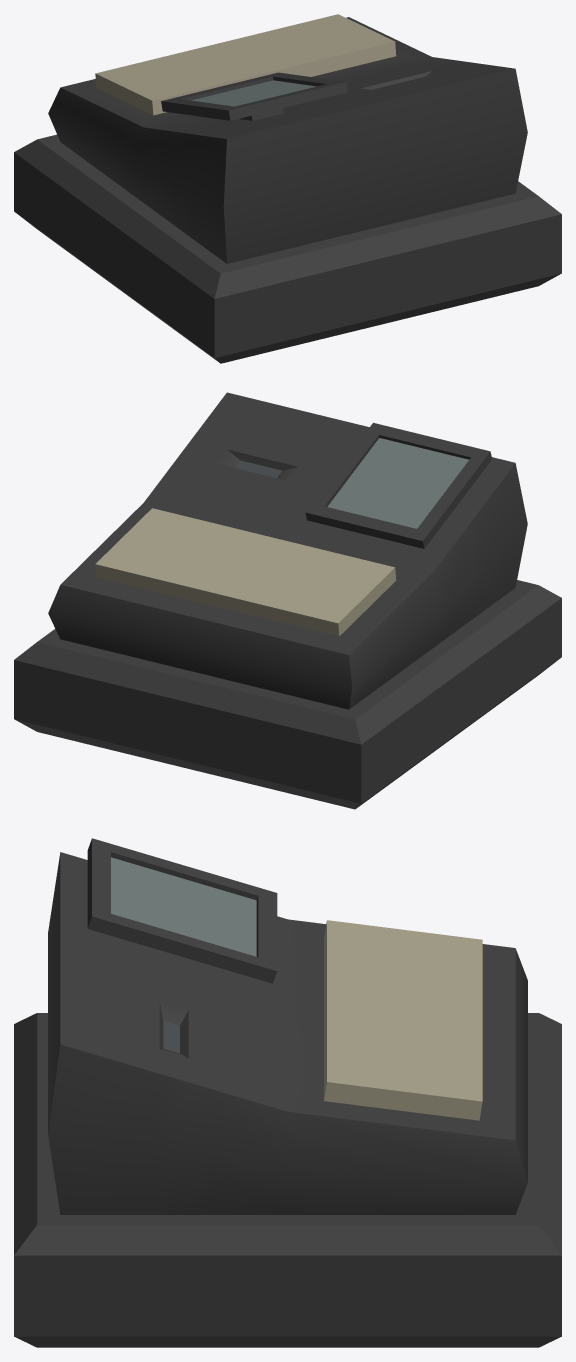
Rendered from PS_Register.fbx.
3 renders of one model, top to bottom at view 1: azimuth 30°, elevation 25°; view 2: azimuth 150°, elevation 25°; view 3: azimuth 270°, elevation 25°, orthographic. The views are drawn at different scales.
Parts seen in each view (by area): view 1: PS_Register; view 2: PS_Register; view 3: PS_Register.
Part boxes in pixels (bbox=[...]): PS_Register: bbox=[14, 14, 561, 363]; PS_Register: bbox=[14, 392, 561, 809]; PS_Register: bbox=[14, 838, 561, 1347].
Bounding box in the file's own units: 0.5536 × 0.3527 × 0.5536.
